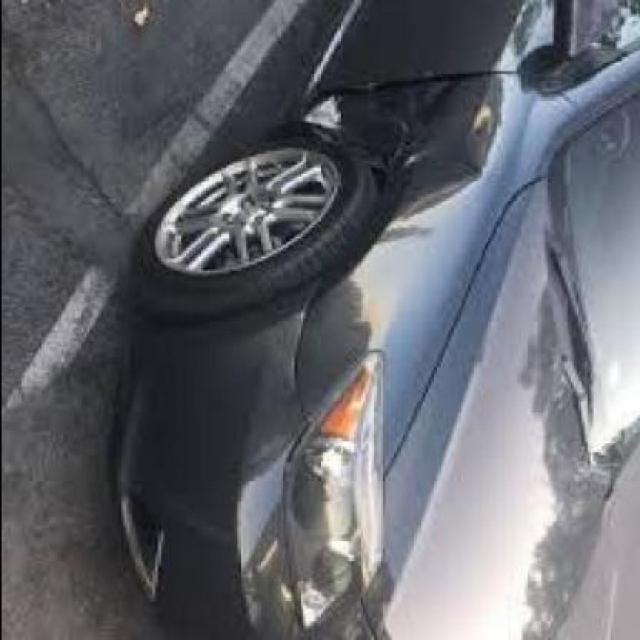damage: (301, 68, 498, 222)
